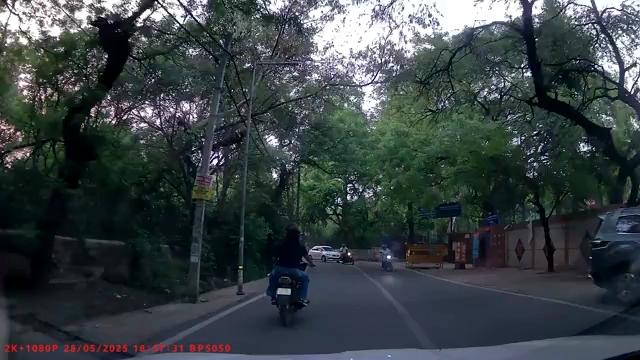motorcycle_with_helmet: (266, 221, 311, 327)
